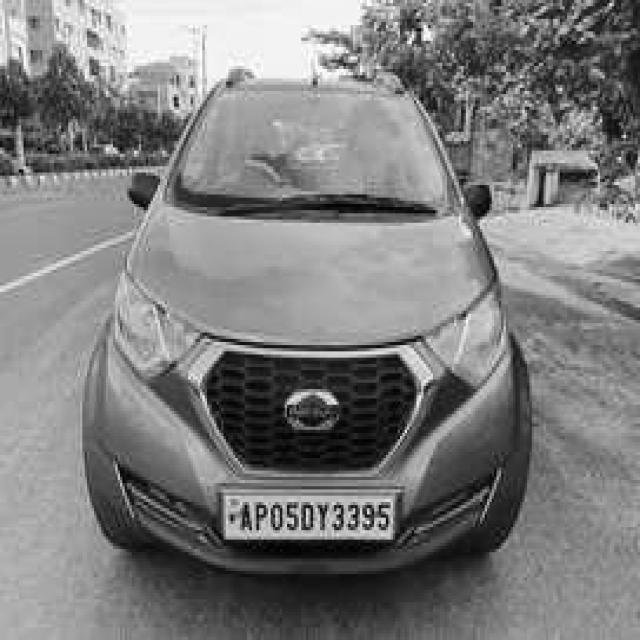car: (82, 66, 536, 583)
license-plate: (221, 489, 400, 546)
